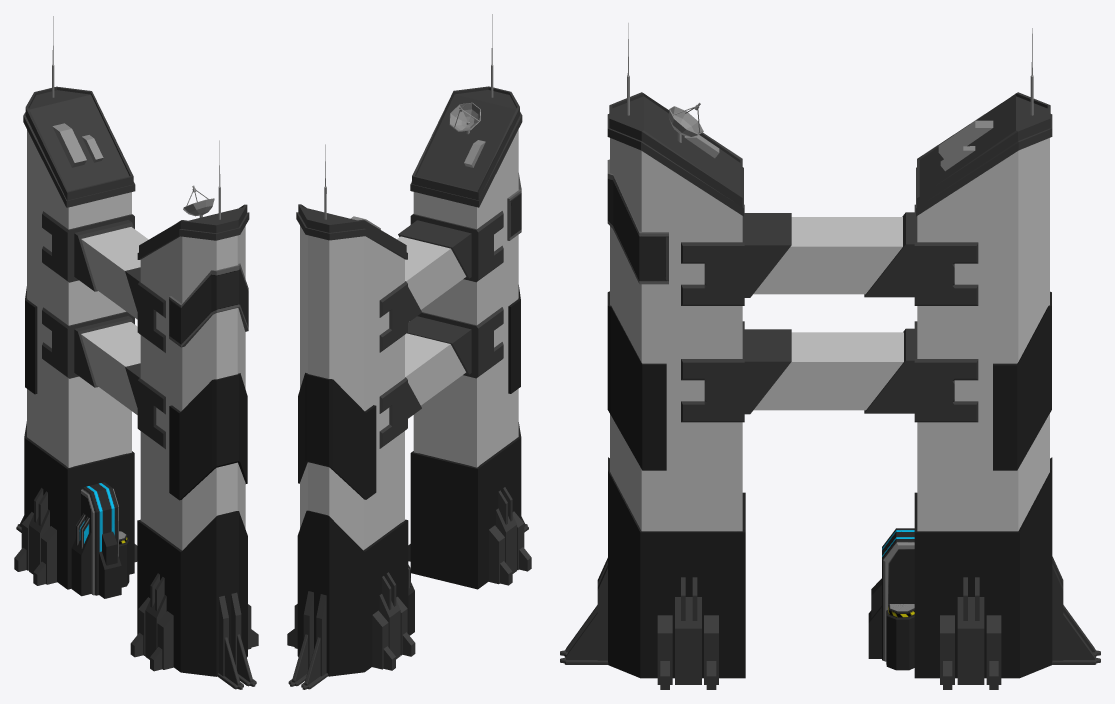
The model's file is building2.fbx.
3 views of the same model, side by side, from view 1: azimuth 30°, elevation 25°; view 2: azimuth 150°, elevation 25°; view 3: azimuth 270°, elevation 25° (orthographic). The views are drawn at different scales.
Visible parts, largest first — view 1: building_2; view 2: building_2; view 3: building_2.
Boxes of the visible parts, x1,y1,x2,y2 form: building_2: (14, 16, 258, 689); building_2: (287, 14, 531, 689); building_2: (560, 23, 1100, 689).
Bounding box in the file's own units: 6.38 × 30.96 × 23.52.
